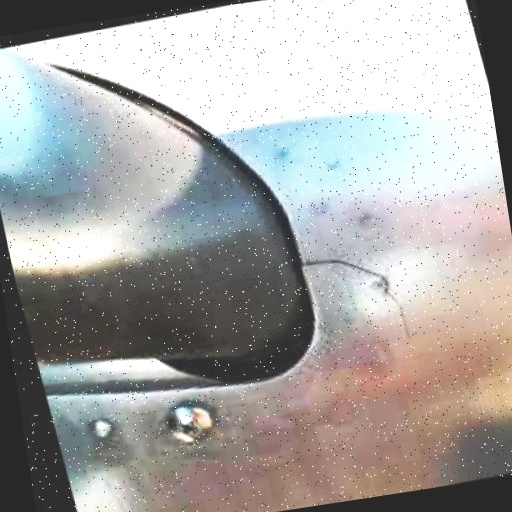crack: (300, 232, 416, 353)
